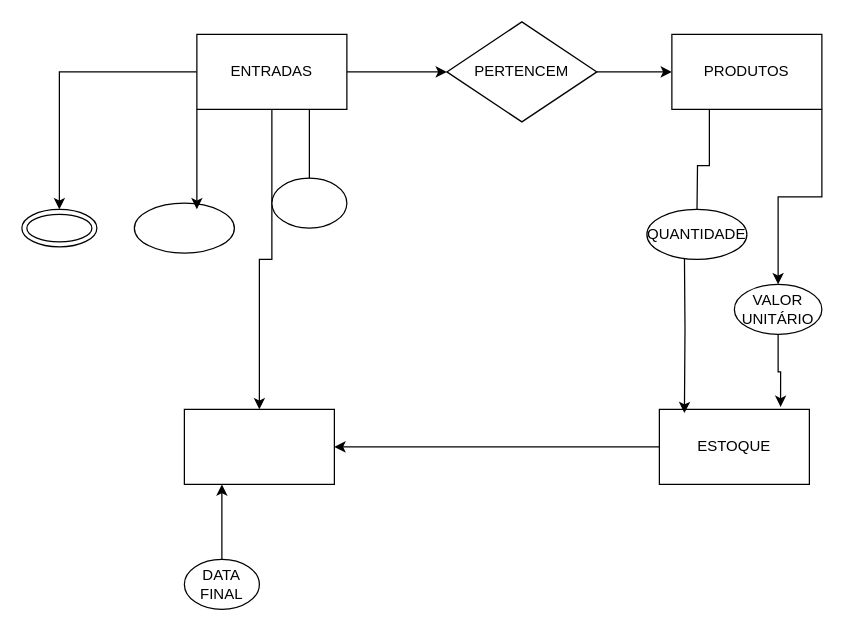
This 854x631 diagram has some shape labels left out. The centre of each missing label's shape, as x and y in pixels:
"CATEGORIA" belongs at (x=183, y=227).
"DATA INICIAL" belongs at (x=309, y=202).
"NOME" belongs at (x=59, y=227).
"SAÍDA" belongs at (x=258, y=446).
